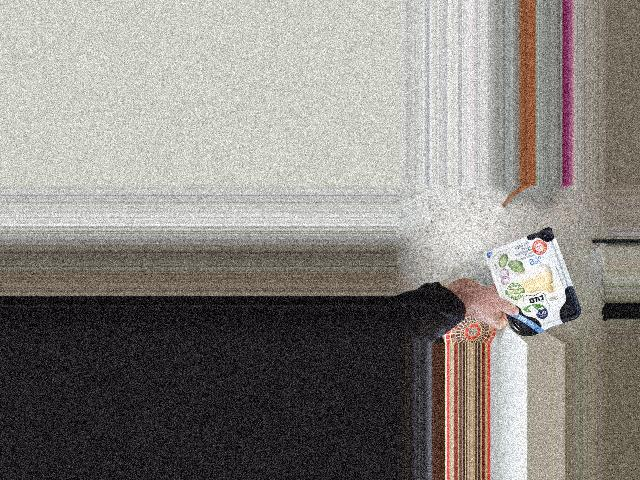cheese: (494, 238, 562, 324)
